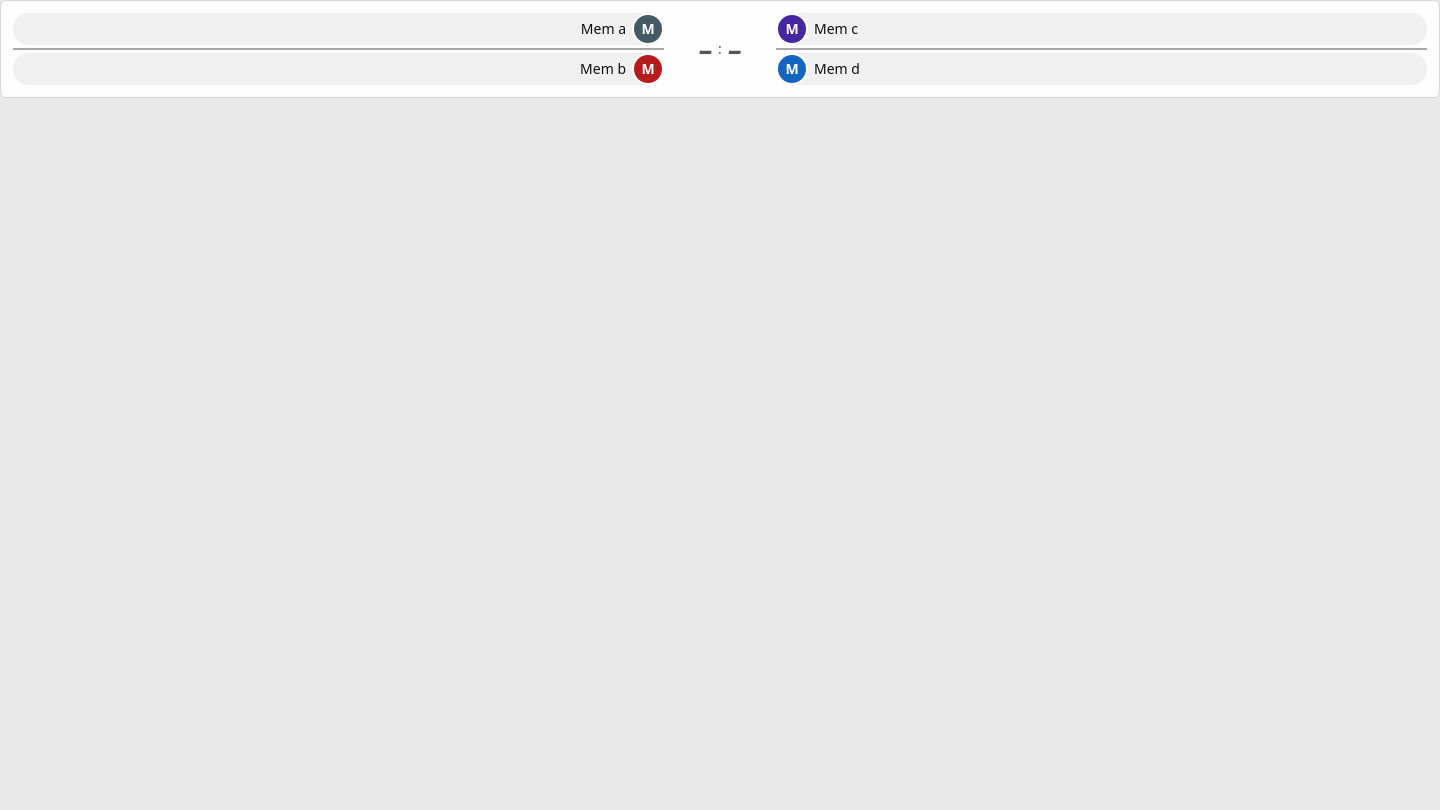
Test case: MatchCard › nút Nhập tỷ số trận N vẫn mở popup nhập tỷ số
Step 1. Click the button named "Nhập tỷ số trận 1" → [720, 49], box [672, 27, 768, 71]
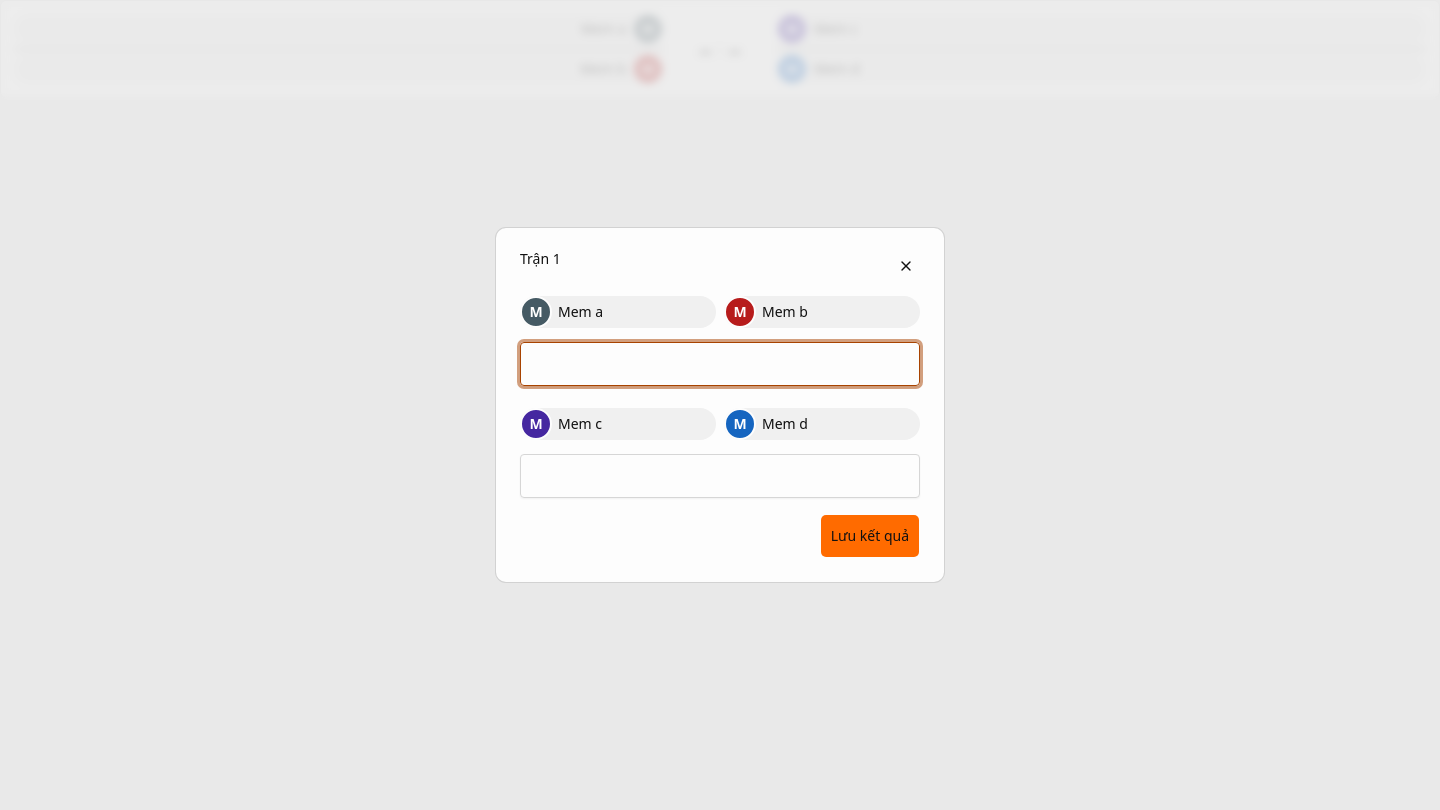
Expected: the dialog is shown, [496, 228, 944, 582]
Expected: the heading "Trận 1" is shown, [520, 249, 561, 268]
